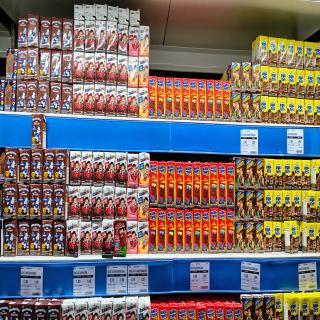Juice: (137, 220, 149, 255), (127, 153, 139, 187), (139, 153, 150, 187), (138, 185, 148, 221), (127, 220, 137, 254), (127, 187, 137, 220), (128, 56, 138, 88), (138, 56, 148, 88), (129, 25, 139, 56), (138, 87, 148, 118), (113, 298, 127, 320), (138, 26, 148, 56), (138, 297, 151, 320), (101, 296, 113, 320), (127, 297, 138, 320)
beverage: (208, 203, 218, 253), (202, 206, 212, 255), (193, 163, 203, 210), (202, 166, 213, 208), (193, 208, 203, 253), (254, 222, 265, 257), (212, 164, 221, 205), (254, 157, 265, 189), (236, 156, 246, 190), (236, 188, 246, 220), (244, 224, 255, 252), (244, 159, 254, 188), (254, 191, 264, 218), (245, 190, 254, 217), (237, 222, 244, 250)
